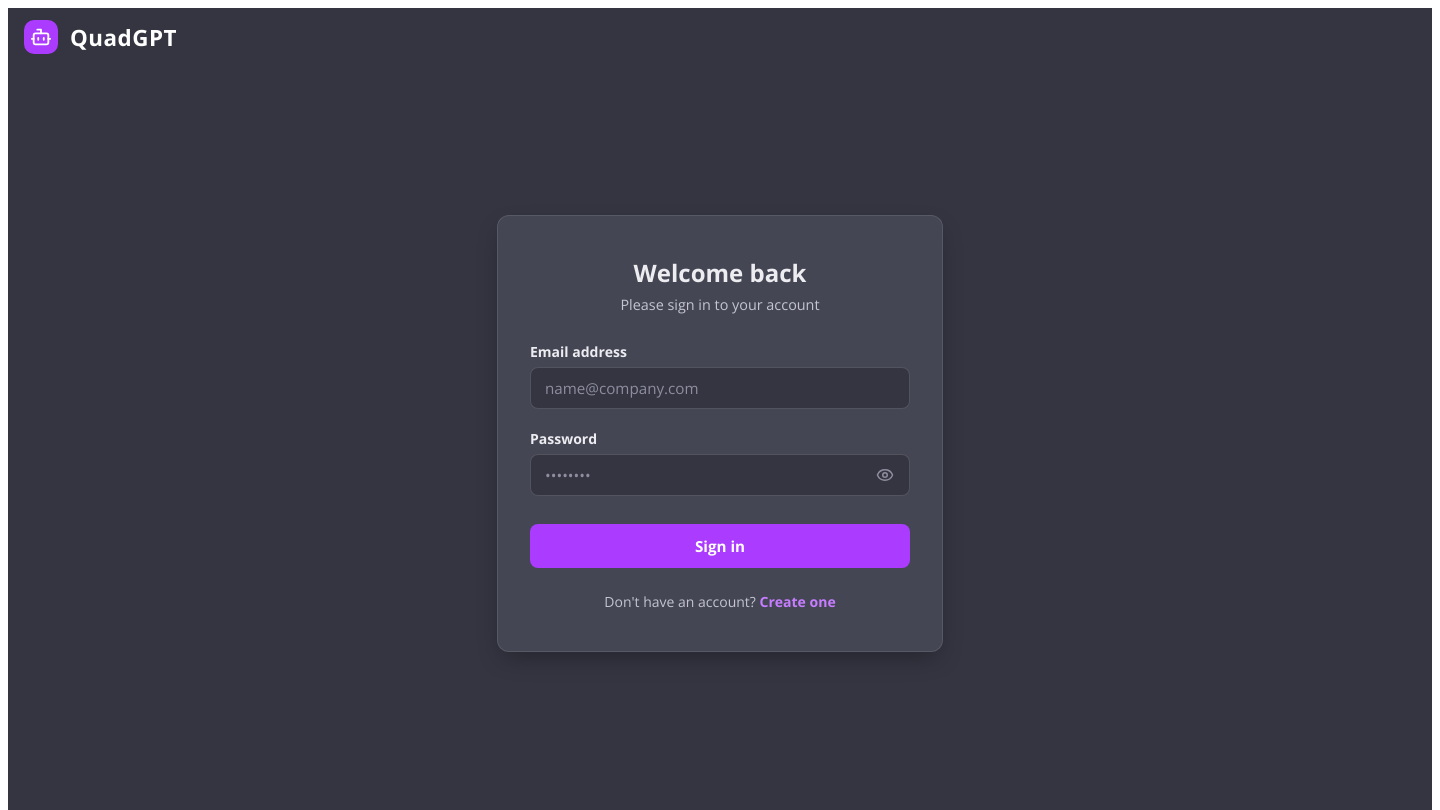
it: Connexion › shows the server message when the login fails
The image size is (1440, 810).
Type "rh@quadria.fr" into the field labelled "Email address" at (720, 388), box [530,366,910,408]
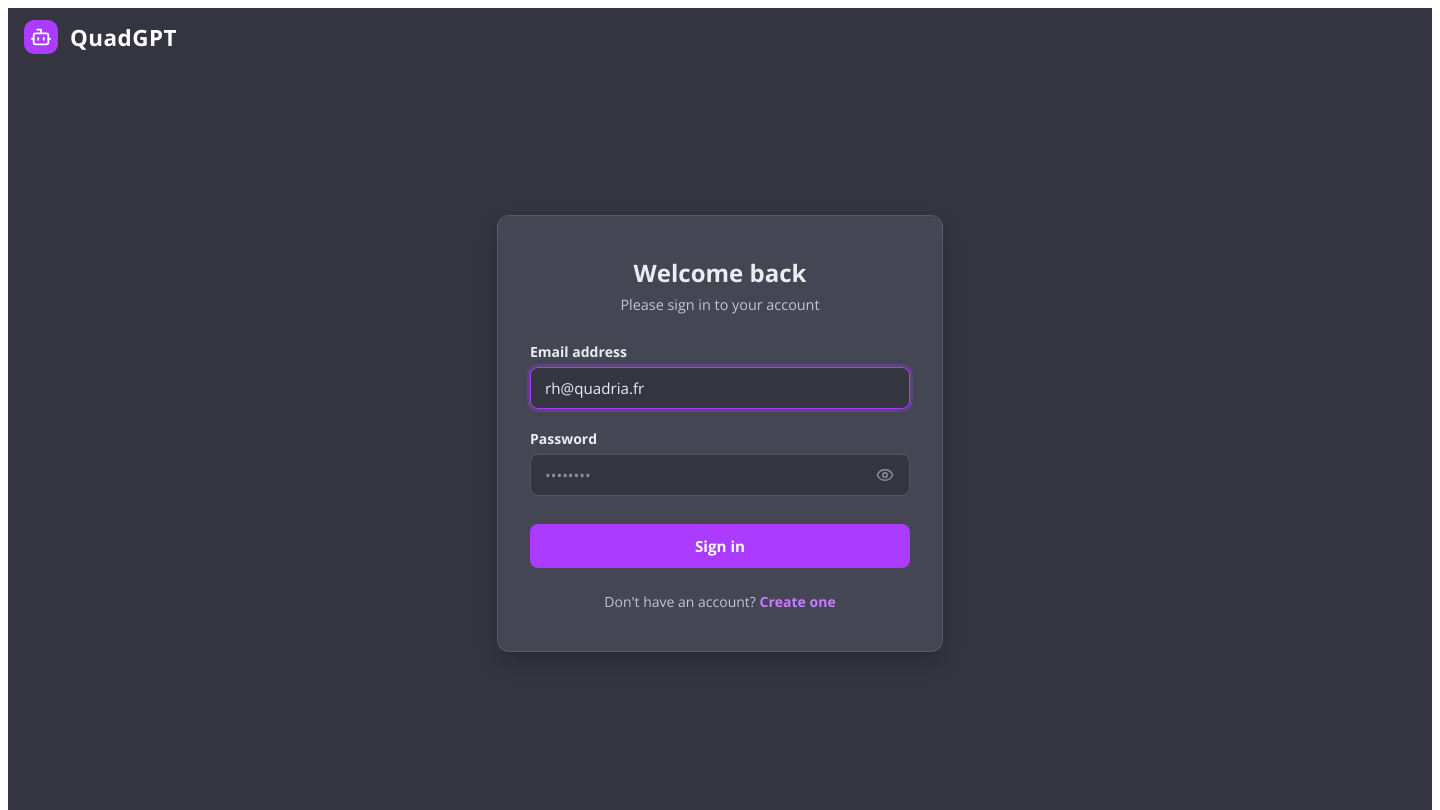
Type "mauvais" into the password field labelled "Password" at (720, 474), box [530,454,910,496]
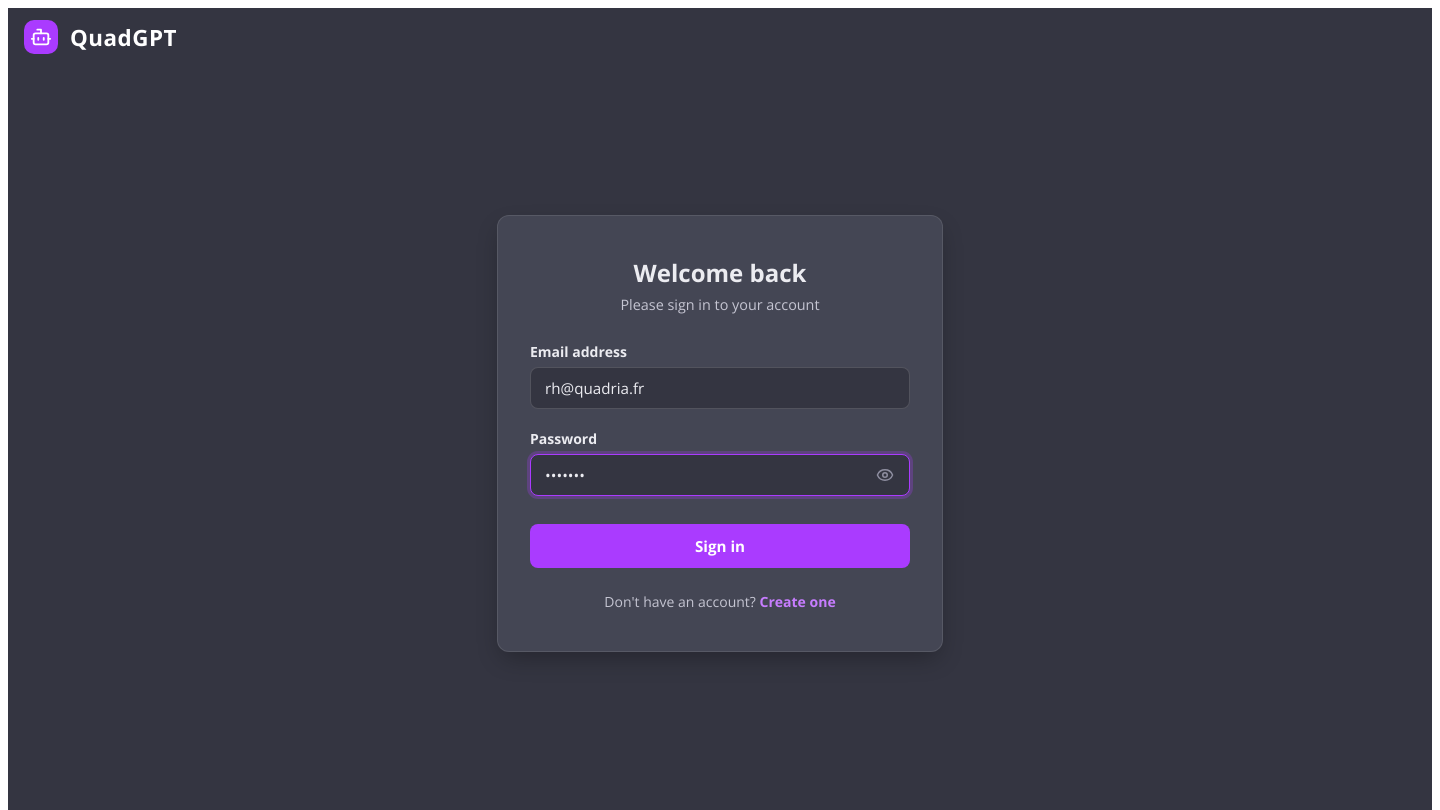
Click the button "Sign in" at (720, 546), box [530,524,910,568]
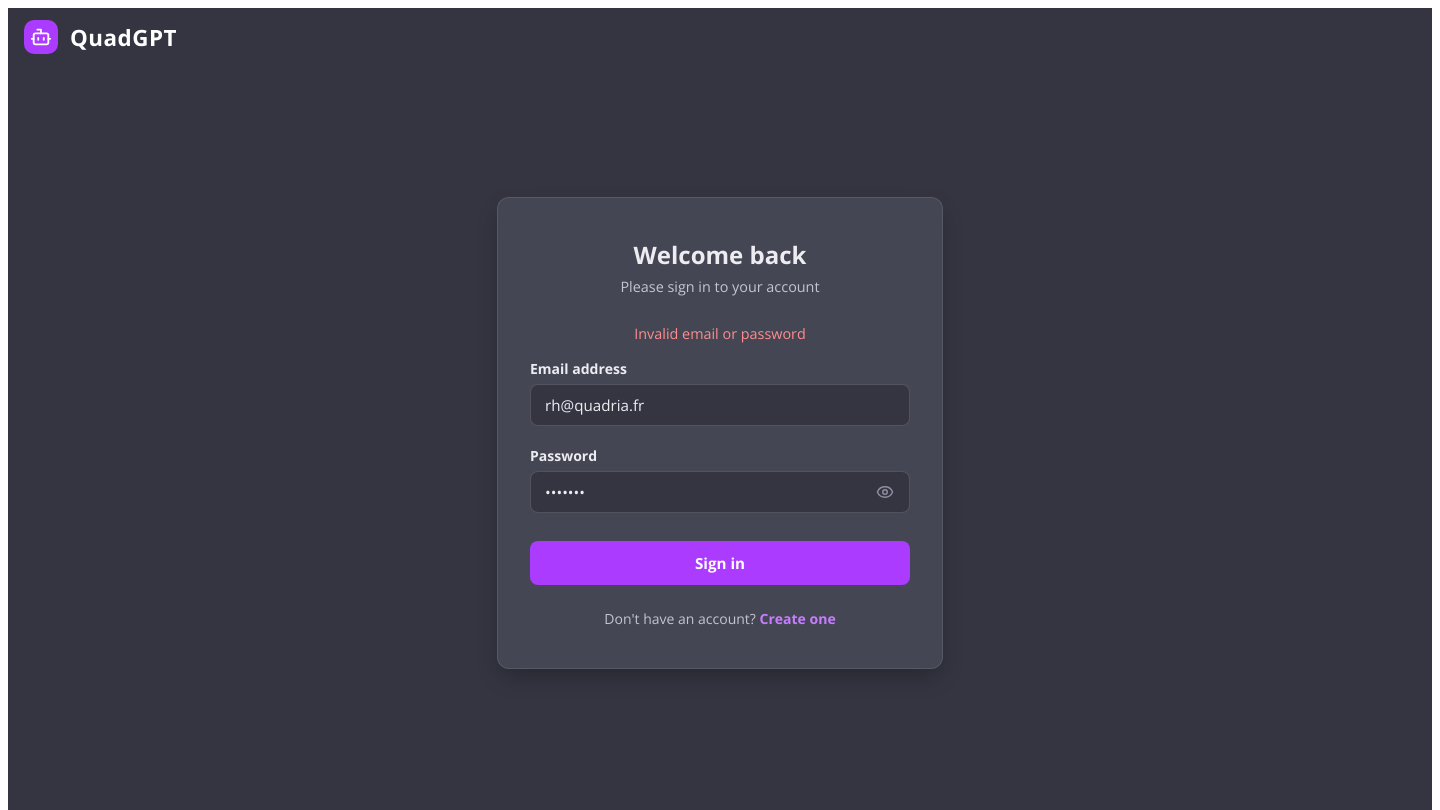
Expected: the text "Invalid email or password" is shown, [634,324,806,343]
